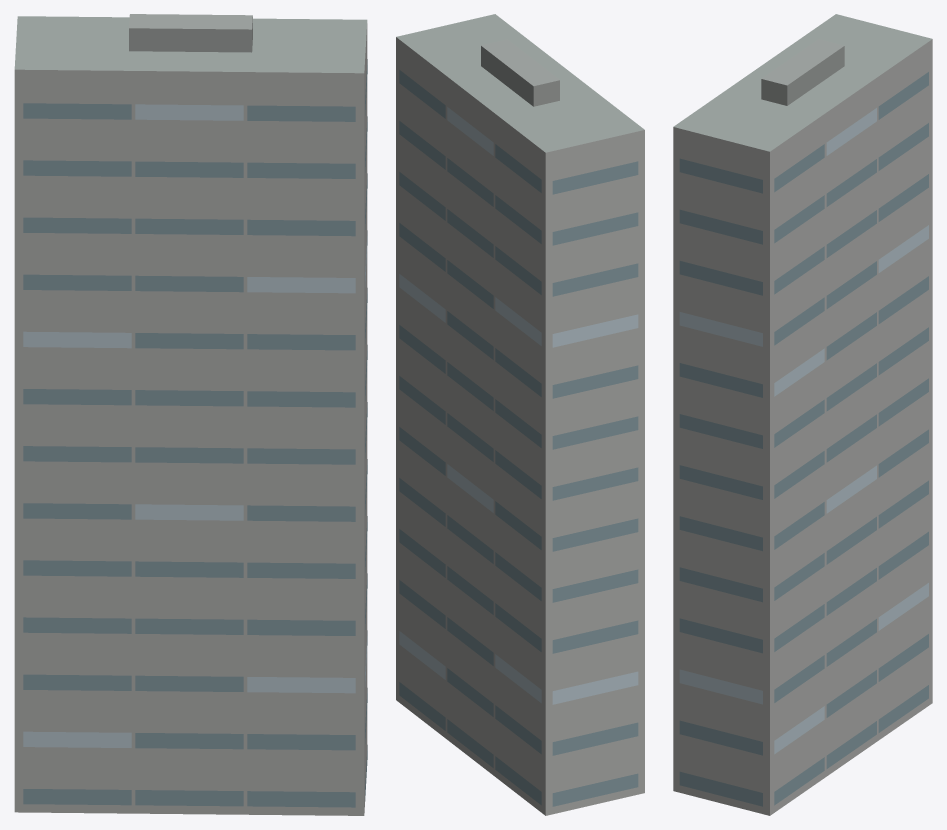
The model's file is fallback-jamsil-ricenz-256.glb.
3 views of the same model, side by side, from view 1: azimuth 30°, elevation 25°; view 2: azimuth 150°, elevation 25°; view 3: azimuth 270°, elevation 25° (orthographic). The views are drawn at different scales.
Parts seen in each view (by area): view 1: fallback-jamsil-ricenz-256; view 2: fallback-jamsil-ricenz-256; view 3: fallback-jamsil-ricenz-256.
Part boxes in pixels (x1,y1,x2,y2): fallback-jamsil-ricenz-256: (14, 14, 367, 815); fallback-jamsil-ricenz-256: (396, 14, 644, 815); fallback-jamsil-ricenz-256: (673, 14, 932, 815).
Size of the model in its own units: 34.52 by 80 by 27.49.
